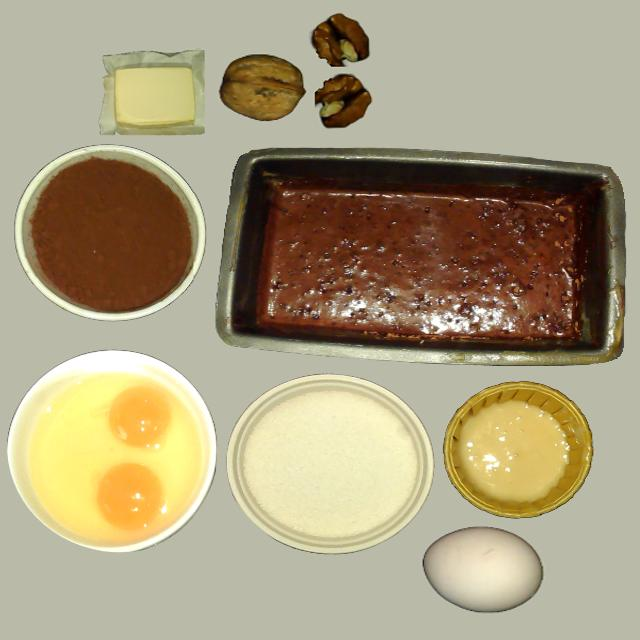Cocoa: (29, 157, 189, 313)
Egg: (96, 463, 164, 530), (107, 387, 173, 449)
Sugar: (242, 388, 418, 543)
Walnut: (220, 54, 306, 121)
